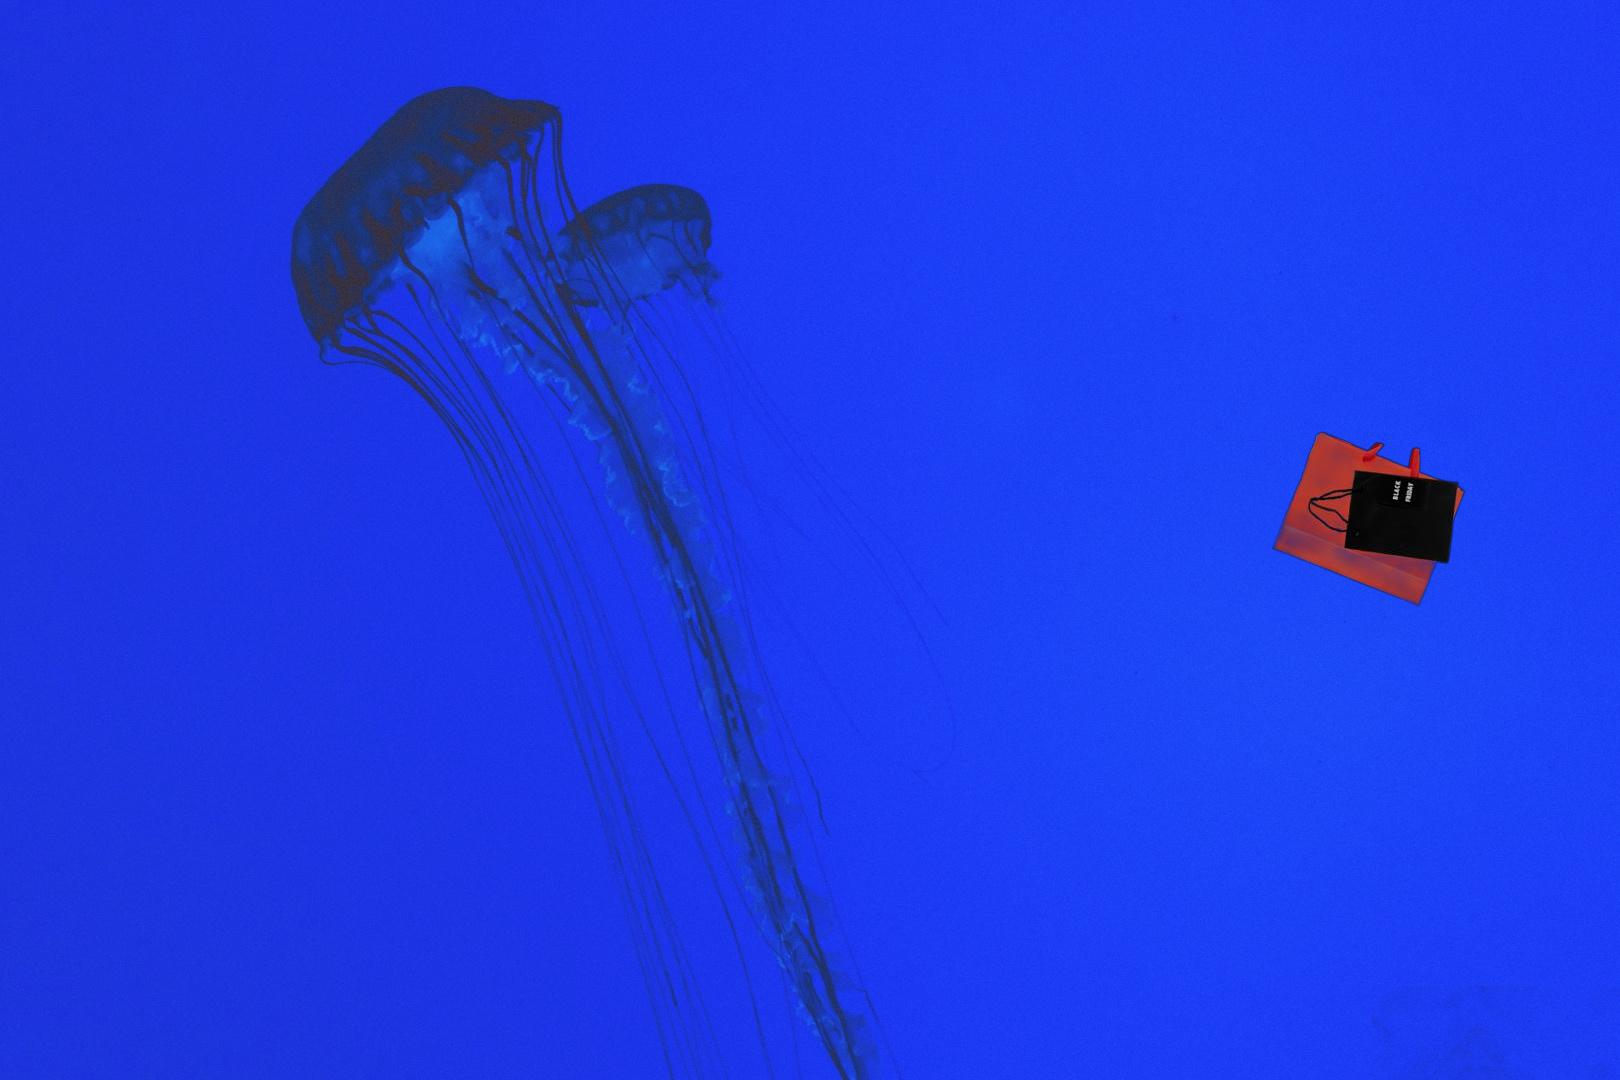paper: (1372, 986, 1620, 1080)
paper-bag: (1270, 429, 1469, 609)
